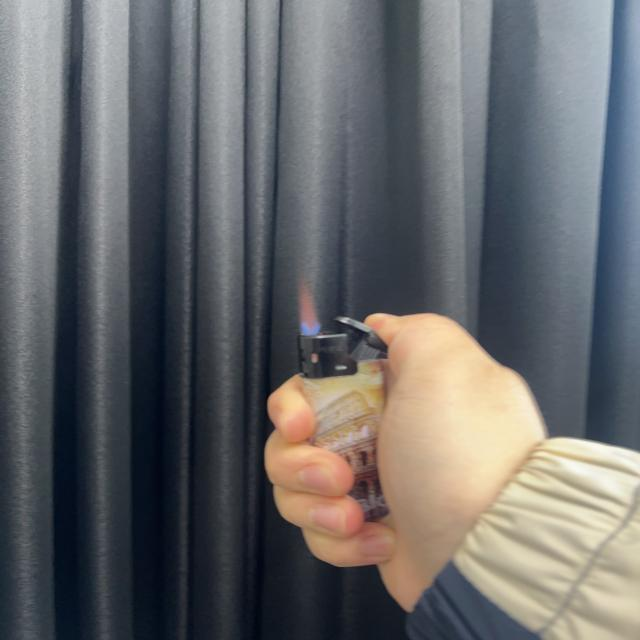fire: (296, 275, 324, 336)
